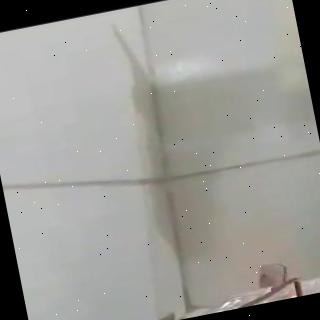fire: (89, 259, 320, 320)
